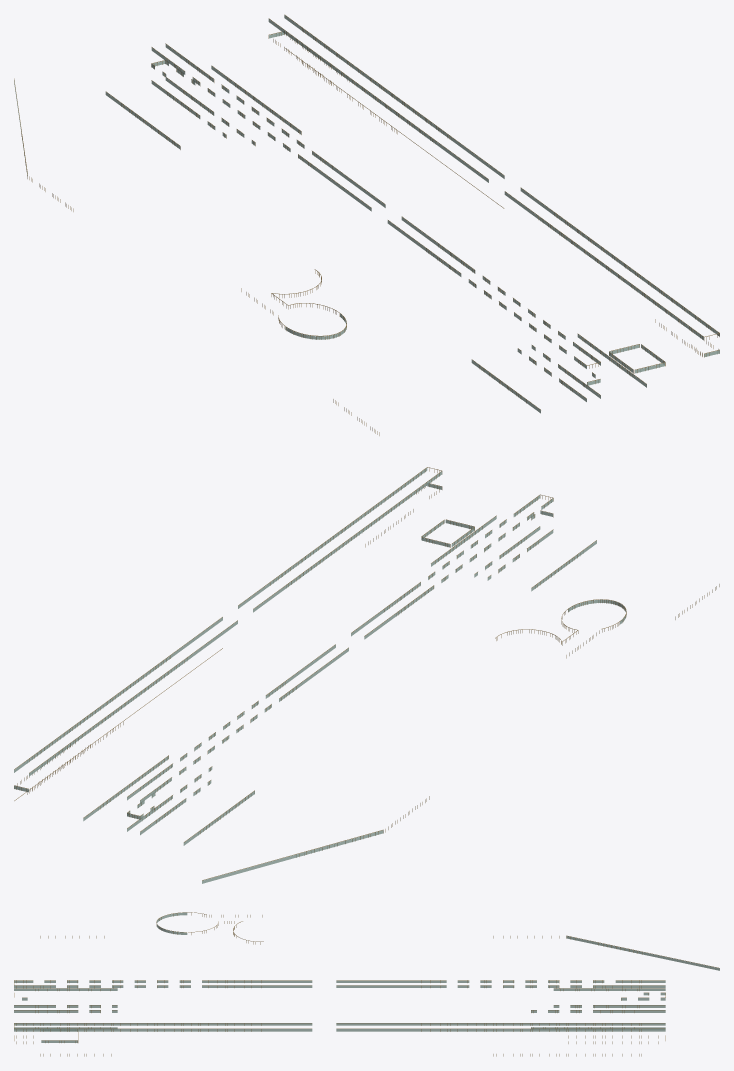
Rendered from TIDAL_QUIET_DOUBLE_D15_frontage_r001.glb.
The picture shows the model from 3 angles, top to bottom: view 1: azimuth 30°, elevation 25°; view 2: azimuth 150°, elevation 25°; view 3: azimuth 270°, elevation 25°; orthographic projection. The views are drawn at different scales.
Visible parts, largest first — view 1: TG_Batch_184, TG_Batch_189, TG_Batch_157, TG_Batch_148, TG_Batch_188, TG_Batch_180, TG_Batch_154, TG_Batch_146; view 2: TG_Batch_184, TG_Batch_189, TG_Batch_148, TG_Batch_157, TG_Batch_188, TG_Batch_180, TG_Batch_146, TG_Batch_154; view 3: TG_Batch_184, TG_Batch_189, TG_Batch_148, TG_Batch_180, TG_Batch_188, TG_Batch_157, TG_Batch_146, TG_Batch_154, TG_Batch_186.
Boxes of the visible parts, x1,y1,x2,y2 form: TG_Batch_184: [151, 15, 504, 211]; TG_Batch_189: [285, 188, 719, 368]; TG_Batch_157: [471, 334, 665, 413]; TG_Batch_148: [14, 66, 301, 175]; TG_Batch_188: [285, 187, 719, 365]; TG_Batch_180: [152, 14, 504, 207]; TG_Batch_154: [333, 319, 702, 435]; TG_Batch_146: [14, 61, 349, 174]; TG_Batch_184: [14, 617, 348, 803]; TG_Batch_189: [238, 468, 626, 639]; TG_Batch_148: [83, 756, 383, 883]; TG_Batch_157: [421, 516, 596, 591]; TG_Batch_188: [238, 467, 626, 636]; TG_Batch_180: [14, 617, 348, 800]; TG_Batch_146: [27, 755, 383, 880]; TG_Batch_154: [365, 509, 719, 619]; TG_Batch_184: [336, 980, 665, 1031]; TG_Batch_189: [14, 912, 312, 1031]; TG_Batch_148: [531, 936, 719, 1028]; TG_Batch_180: [336, 980, 665, 1031]; TG_Batch_188: [14, 912, 311, 1031]; TG_Batch_157: [14, 988, 117, 1042]; TG_Batch_146: [531, 935, 719, 1056]; TG_Batch_154: [14, 936, 117, 1056]; TG_Batch_186: [187, 912, 263, 1031].
Bounding box in the file's own units: 91.72 × 10.14 × 232.
Materials: 2 (1 with a texture image).
